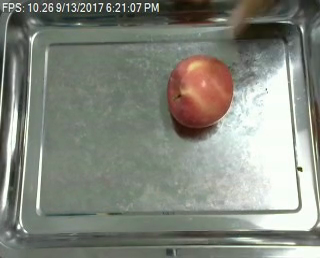Apple: (163, 54, 236, 130)
